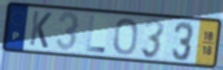3: (55, 11, 83, 54), (140, 17, 168, 60), (171, 20, 195, 63)
K: (28, 9, 53, 50)
L: (85, 15, 107, 55)
O: (112, 17, 140, 57)
